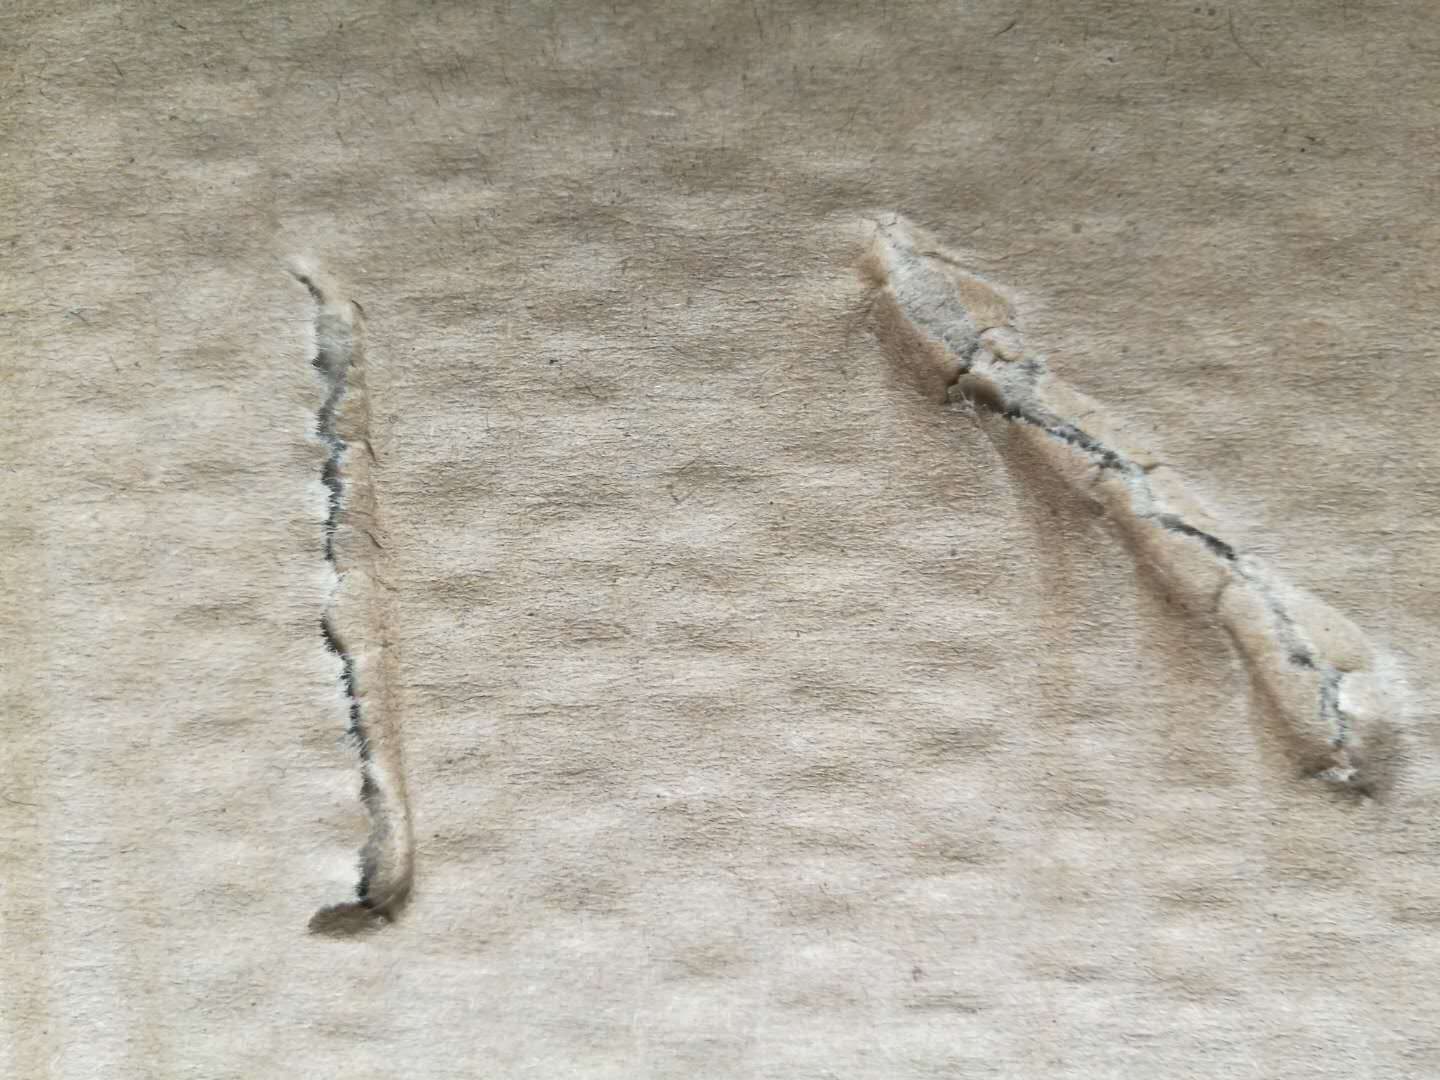defect: (791, 182, 1440, 860), (222, 238, 497, 967)
